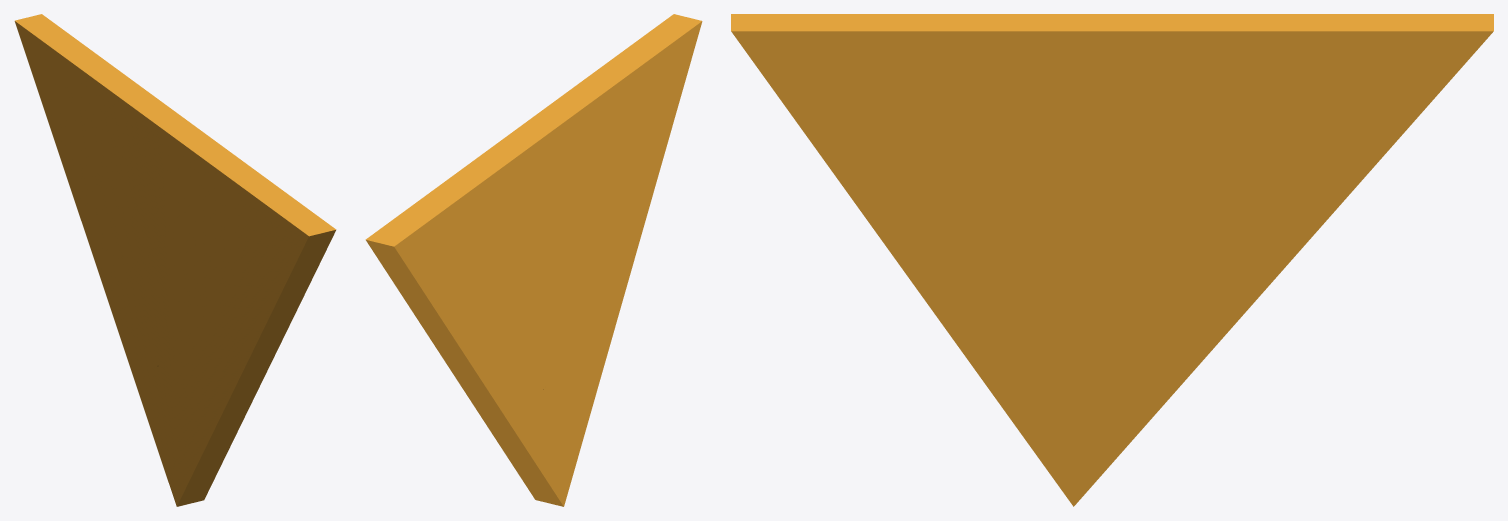
File: Roof Wall 4.fbx
3 views of the same model, side by side, from view 1: azimuth 30°, elevation 25°; view 2: azimuth 150°, elevation 25°; view 3: azimuth 270°, elevation 25° (orthographic). The views are drawn at different scales.
Visible parts, largest first — view 1: Roof Wall 4; view 2: Roof Wall 4; view 3: Roof Wall 4.
Part boxes in pixels (bbox=[...]): Roof Wall 4: bbox=[14, 14, 336, 506]; Roof Wall 4: bbox=[365, 14, 702, 506]; Roof Wall 4: bbox=[731, 14, 1493, 506].
Size of the model in its own units: 14.55 by 187 by 271.
Materials: 1 (1 with a texture image).
